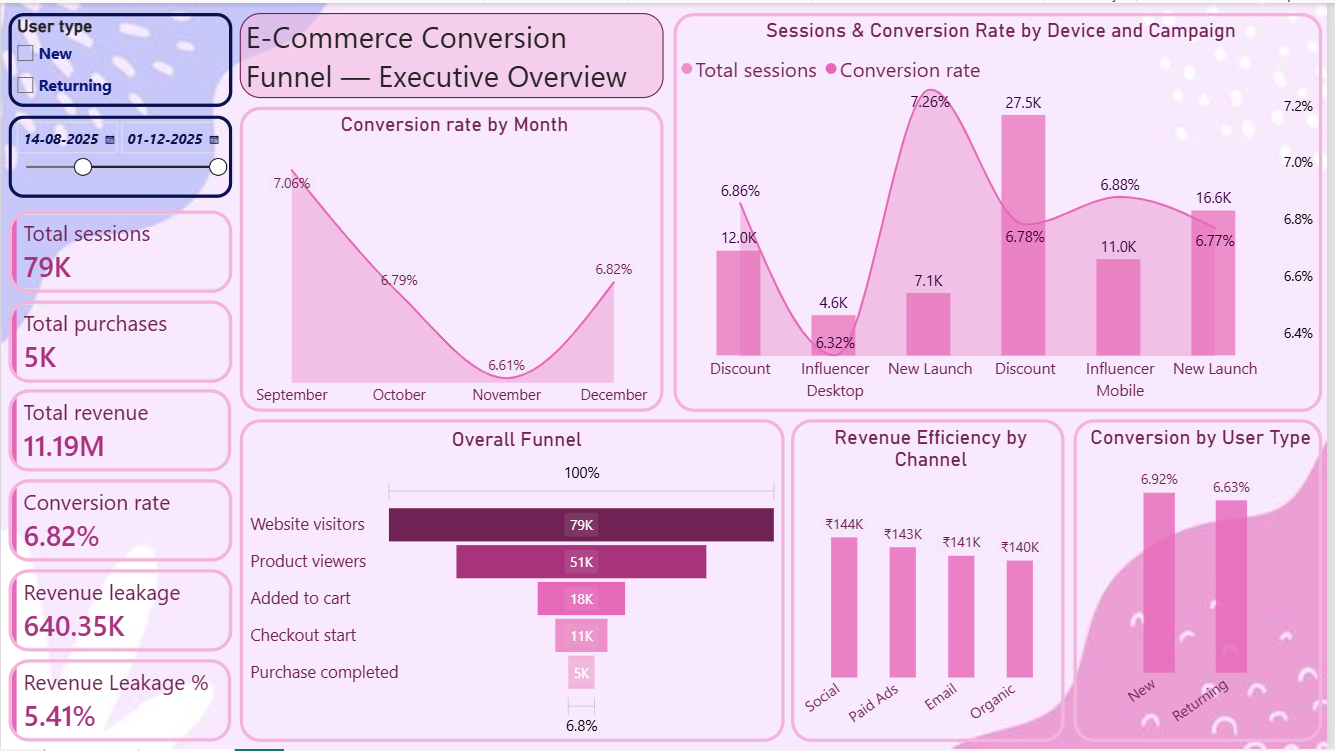

The dashboard page shown, as its layout file describes it:
{"tool":"powerbi","page":{"name":"Page 1","canvas":[1920,1080],"ordinal":0},"visuals":[{"type":"cardVisual","fields":{"Data":["cleaned_data.Conversion rate"]},"box":[10,690,323.9,119.4],"z":0},{"type":"cardVisual","fields":{"Data":["cleaned_data.Revenue leakage"]},"box":[10,820,323.9,119.4],"z":1000},{"type":"cardVisual","fields":{"Data":["cleaned_data.Revenue Leakage %"]},"box":[10,950.1,322.1,119.4],"z":2000},{"type":"cardVisual","fields":{"Data":["cleaned_data.Total revenue"]},"box":[10,560,322.1,119.4],"z":3000},{"type":"cardVisual","fields":{"Data":["cleaned_data.Total sessions"]},"box":[10,300,323.9,119.4],"z":4000},{"type":"cardVisual","fields":{"Data":["cleaned_data.Total purchases"]},"box":[10,430,323.9,119.4],"z":5000},{"type":"funnel","title":"Overall Funnel","fields":{"Y":["cleaned_data.Website visitors","cleaned_data.Product viewers","cleaned_data.Added to cart","cleaned_data.Checkout start","cleaned_data.Purchase completed"]},"box":[345.6,602.6,789,466.9],"z":6000},{"type":"lineChart","fields":{"Category":["cleaned_data.month.Variation.Date Hierarchy.Month"],"Y":["cleaned_data.Conversion rate"]},"box":[345.6,150.2,613.5,441.6],"z":7000},{"type":"clusteredColumnChart","title":"Revenue Efficiency by Channel","fields":{"Category":["cleaned_data.channel"],"Y":["cleaned_data.Revenue per 1000 session"]},"box":[1144,602.6,396.3,466.9],"z":8000},{"type":"clusteredColumnChart","title":"Conversion by User Type","fields":{"Y":["cleaned_data.Conversion rate"],"Category":["cleaned_data.user_type"]},"box":[1552,602.6,360.1,466.9],"z":9000},{"type":"lineStackedColumnComboChart","title":"Sessions & Conversion Rate by Device and Campaign","fields":{"Category":["cleaned_data.device","cleaned_data.campaign_type"],"Y":["cleaned_data.Total sessions"],"Y2":["cleaned_data.Conversion rate"]},"box":[973.6,14.5,939.2,577.3],"z":10000},{"type":"slicer","fields":{"Values":["cleaned_data.month"]},"box":[10.9,162.9,323.9,119.4],"z":11000},{"type":"slicer","fields":{"Values":["cleaned_data.user_type"]},"box":[10.9,14.5,323.9,135.7],"z":12000},{"type":"textbox","box":[345.6,14.5,613.5,123.1],"z":13000}]}

Visuals, with their boxes in screenshot pixels (x1, y1, x2, y2), scaled from the page's 1920x1080 canvas onto the 1335x751 screenshot:
cardVisual - cleaned_data.Conversion rate: [7,480,232,563]
cardVisual - cleaned_data.Revenue leakage: [7,570,232,653]
cardVisual - cleaned_data.Revenue Leakage %: [7,661,231,744]
cardVisual - cleaned_data.Total revenue: [7,389,231,472]
cardVisual - cleaned_data.Total sessions: [7,209,232,292]
cardVisual - cleaned_data.Total purchases: [7,299,232,382]
"Overall Funnel" funnel: [240,419,789,744]
lineChart - cleaned_data.month.Variation.Date Hierarchy.Month x cleaned_data.Conversion rate: [240,104,667,412]
"Revenue Efficiency by Channel" clusteredColumnChart: [795,419,1071,744]
"Conversion by User Type" clusteredColumnChart: [1079,419,1330,744]
"Sessions & Conversion Rate by Device and Campaign" lineStackedColumnComboChart: [677,10,1330,412]
slicer - cleaned_data.month: [8,113,233,196]
slicer - cleaned_data.user_type: [8,10,233,104]
textbox: [240,10,667,96]
